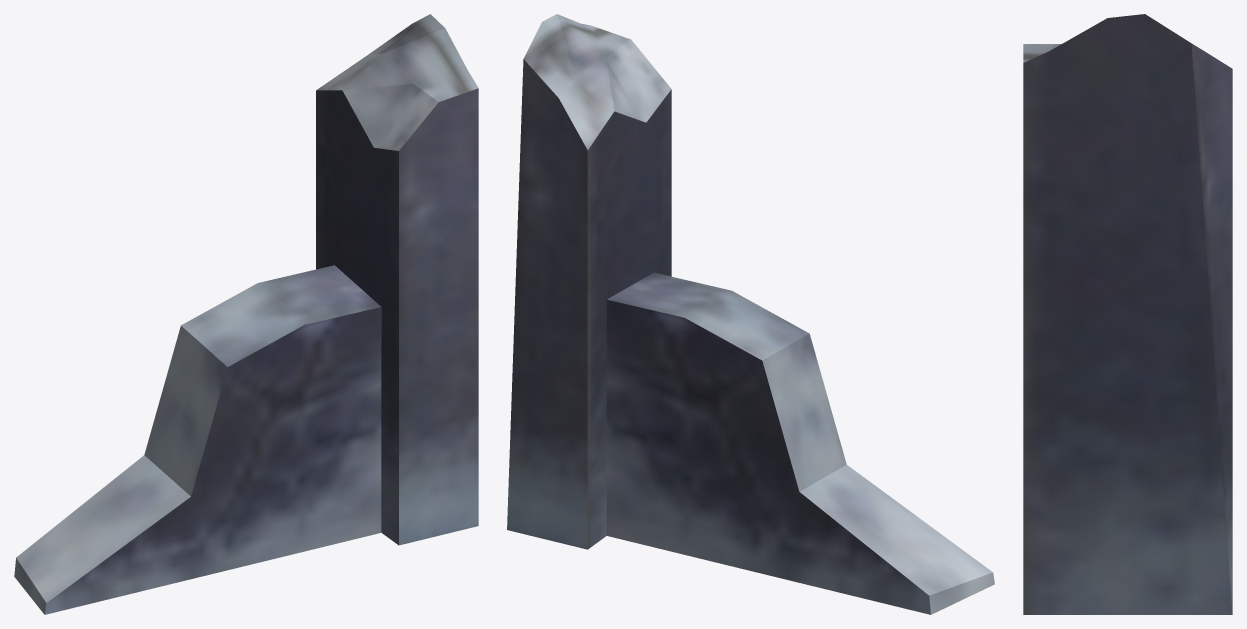
File: yw_wanglingzhita_cuiqiang04.FBX
The picture shows the model from 3 angles, left to right: view 1: azimuth 30°, elevation 25°; view 2: azimuth 150°, elevation 25°; view 3: azimuth 270°, elevation 25°; orthographic projection. The views are drawn at different scales.
Visible parts, largest first — view 1: yw_wanglingzhita_cuiqiang04; view 2: yw_wanglingzhita_cuiqiang04; view 3: yw_wanglingzhita_cuiqiang04.
Boxes of the visible parts, left/top/right/bottom form: yw_wanglingzhita_cuiqiang04: left=14, top=14, right=478, bottom=614; yw_wanglingzhita_cuiqiang04: left=507, top=14, right=994, bottom=614; yw_wanglingzhita_cuiqiang04: left=1023, top=14, right=1232, bottom=614.
Size of the model in its own units: 202 by 221 by 69.68.
